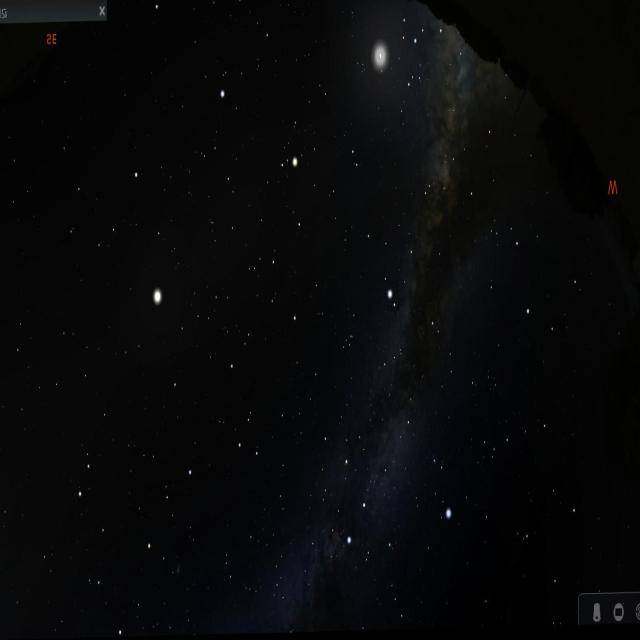aquila: (359, 181, 439, 320)
cygnus: (339, 410, 417, 565)
lyra: (429, 442, 459, 538)
moon: (359, 26, 398, 90)
